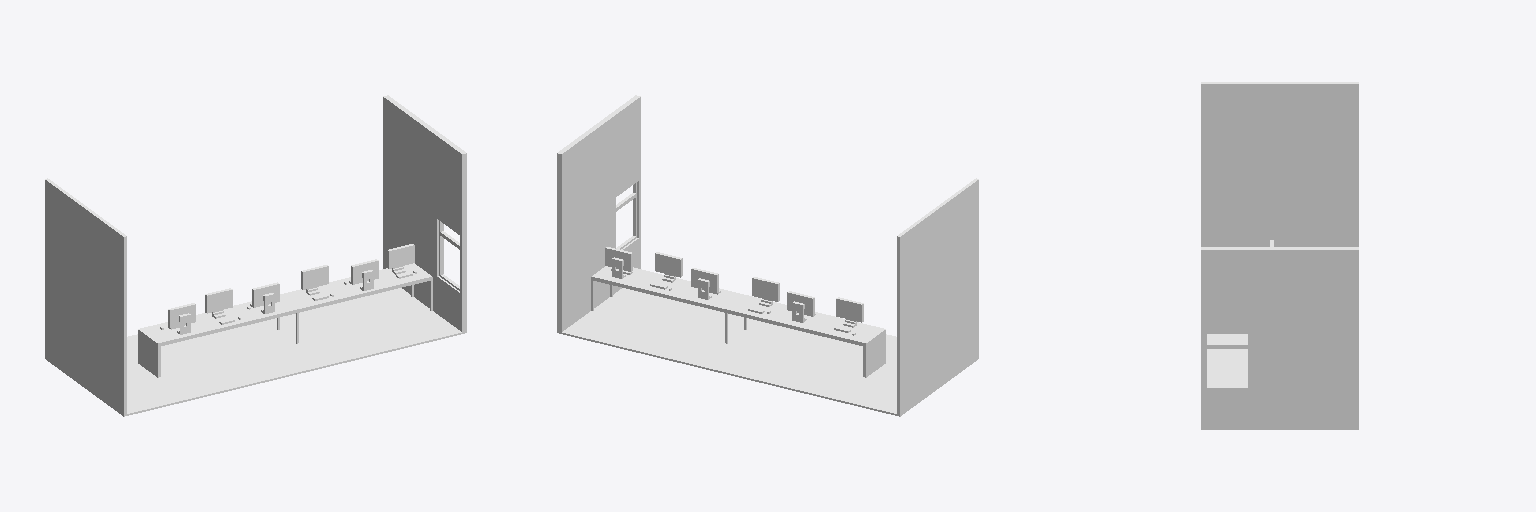
Rendered from RightTable.obj.
3 renders of one model, left to right at view 1: azimuth 30°, elevation 25°; view 2: azimuth 150°, elevation 25°; view 3: azimuth 270°, elevation 25°, orthographic.
Visible parts, largest first — view 1: object 1; view 2: object 1; view 3: object 1.
Boxes of the visible parts, <box> form: object 1: <box>45,95,466,416</box>; object 1: <box>557,95,978,416</box>; object 1: <box>1201,82,1358,429</box>.
Bounding box in the file's own units: 20 × 10 × 8.